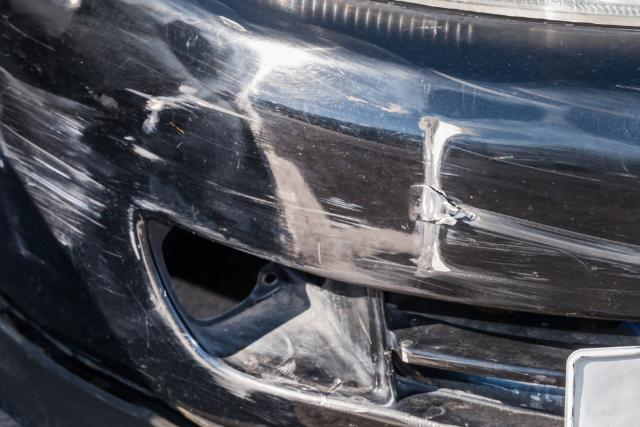Bumper: (0, 0, 622, 427)
